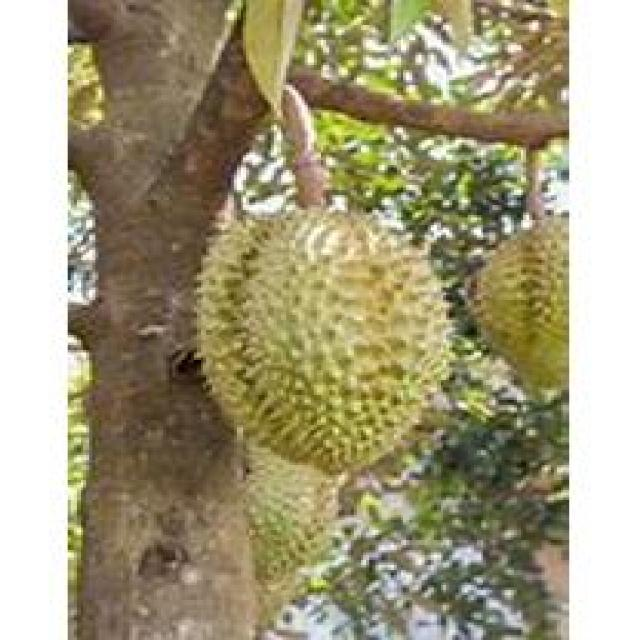fruit: (169, 175, 471, 495)
